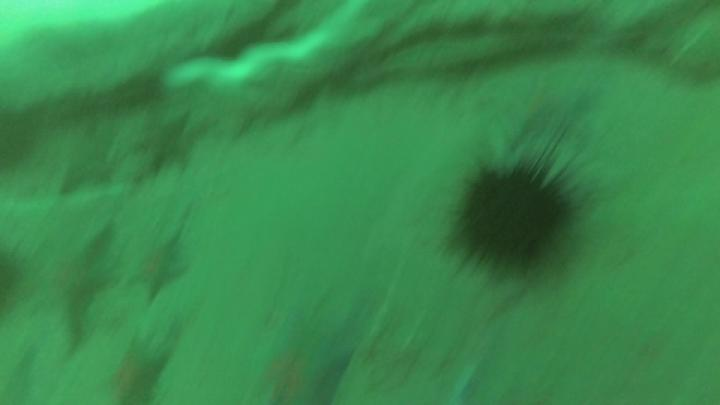echinus: (448, 154, 570, 276)
starfish: (31, 223, 123, 356), (248, 317, 353, 405), (491, 76, 601, 157), (105, 335, 171, 405), (133, 225, 191, 304)
